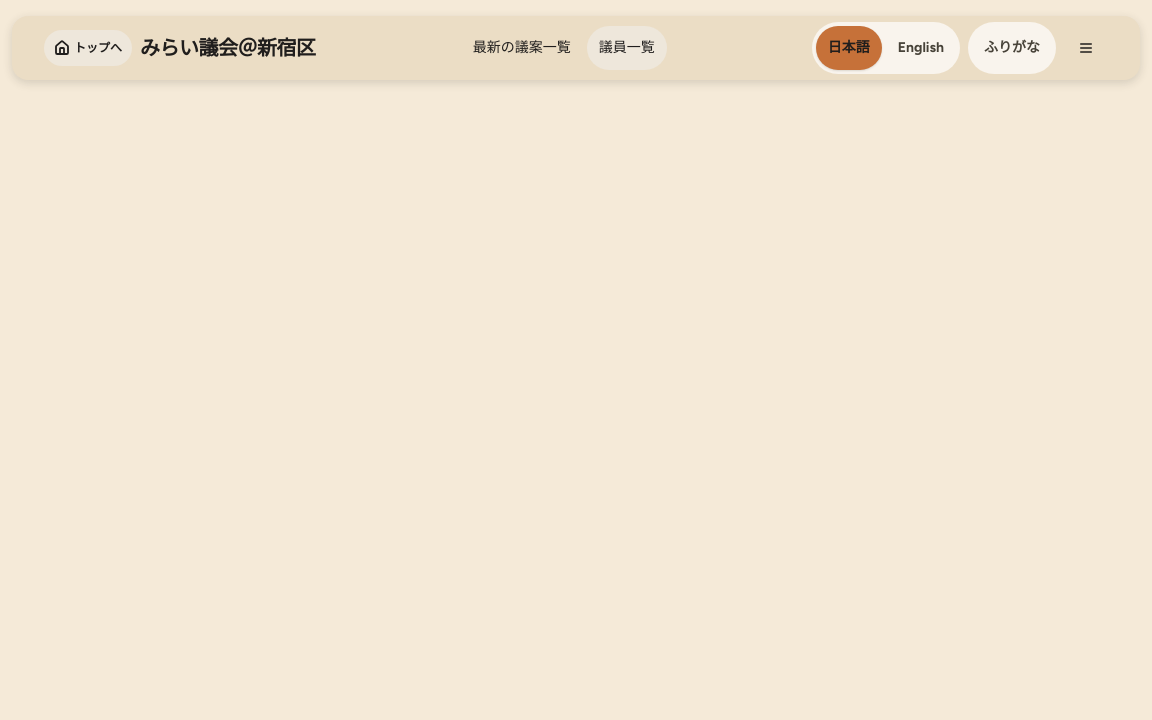
HeaderClient › メニューの全国のみらい議会マップ › ja 表示で、メニューの外部リンクが設定先を新しいタブで安全に開く
The width and height of the screenshot is (1152, 720).
Click the button named "メニューを開く": coordinates (1086, 48) [1064,26,1108,70]
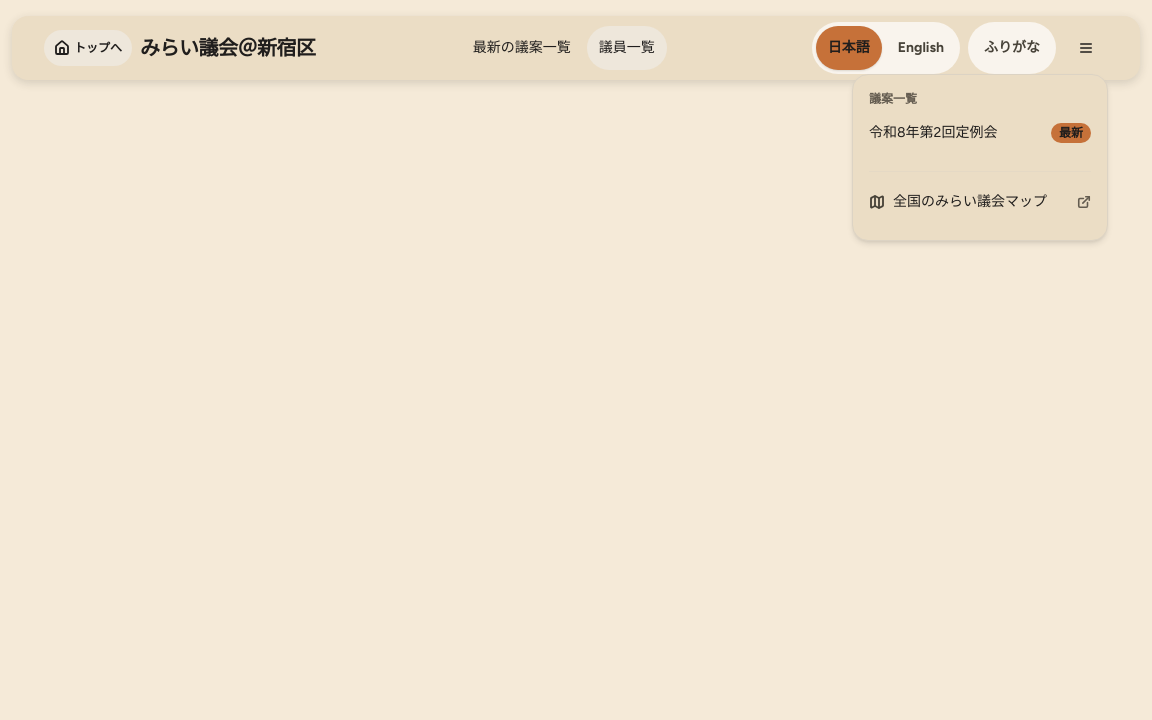
Result: the link with aria-label "全国のみらい議会マップ（新しいタブで開きます）" reads "全国のみらい議会マップ" at [869,193,1091,210]
